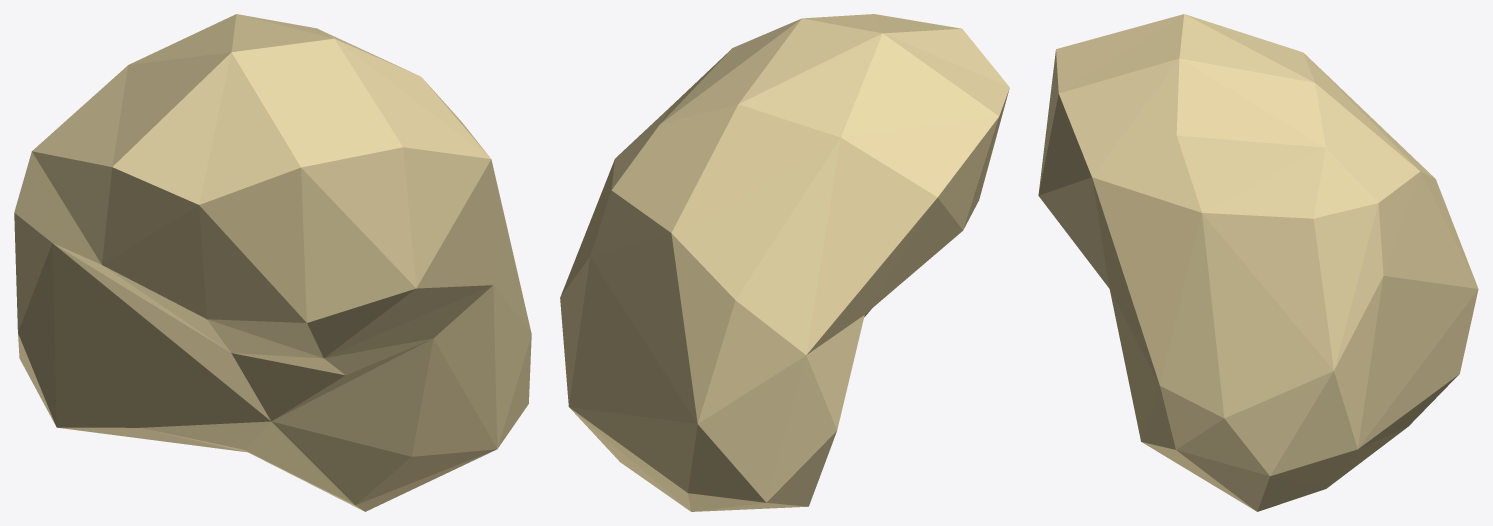
File: Rock (86).fbx
The picture shows the model from 3 angles, left to right: view 1: azimuth 30°, elevation 25°; view 2: azimuth 150°, elevation 25°; view 3: azimuth 270°, elevation 25°; orthographic projection. The views are drawn at different scales.
Parts seen in each view (by area): view 1: Asteroid85; view 2: Asteroid85; view 3: Asteroid85.
Boxes of the visible parts, left/top/right/bottom form: Asteroid85: left=14, top=14, right=531, bottom=511; Asteroid85: left=560, top=14, right=1009, bottom=511; Asteroid85: left=1038, top=14, right=1478, bottom=511.
Size of the model in its own units: 70.92 by 81.56 by 78.9.
